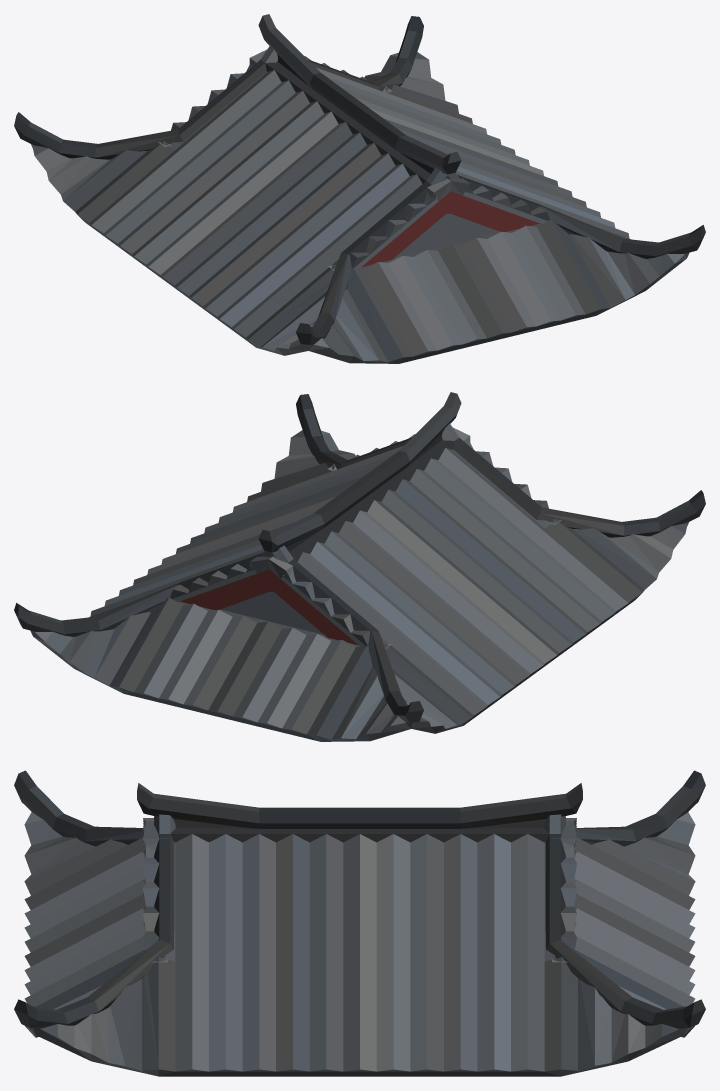
File: BuildingA-Sm_RoofLOD1.fbx
3 renders of one model, top to bottom at view 1: azimuth 30°, elevation 25°; view 2: azimuth 150°, elevation 25°; view 3: azimuth 270°, elevation 25°, orthographic. The views are drawn at different scales.
Parts seen in each view (by area): view 1: BuildingA-Sm_RoofLOD1; view 2: BuildingA-Sm_RoofLOD1; view 3: BuildingA-Sm_RoofLOD1.
Boxes of the visible parts, x1,y1,x2,y2 form: BuildingA-Sm_RoofLOD1: (14, 14, 705, 363); BuildingA-Sm_RoofLOD1: (14, 392, 705, 741); BuildingA-Sm_RoofLOD1: (14, 770, 705, 1076).
Bounding box in the file's own units: 1039 × 376 × 1289.
